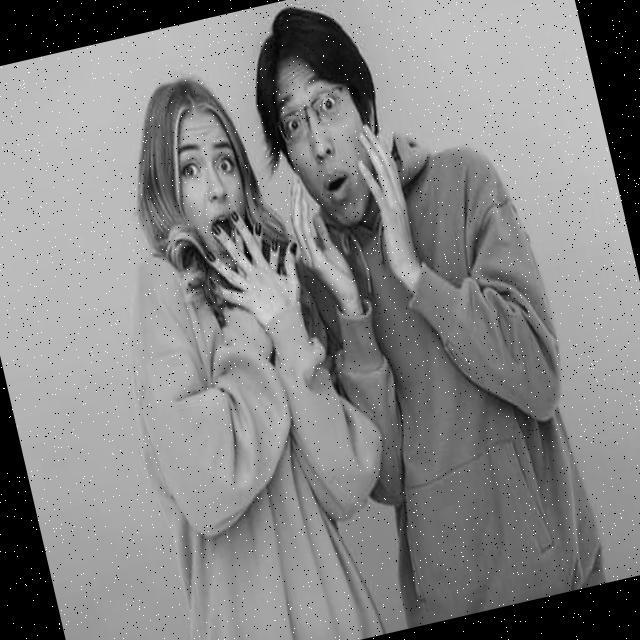Fear: (160, 108, 257, 277)
